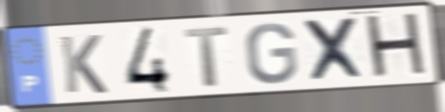4: (121, 25, 175, 96)
G: (244, 21, 300, 86)
H: (362, 10, 431, 83)
K: (57, 33, 110, 96)
T: (182, 24, 231, 89)
X: (299, 15, 370, 85)
